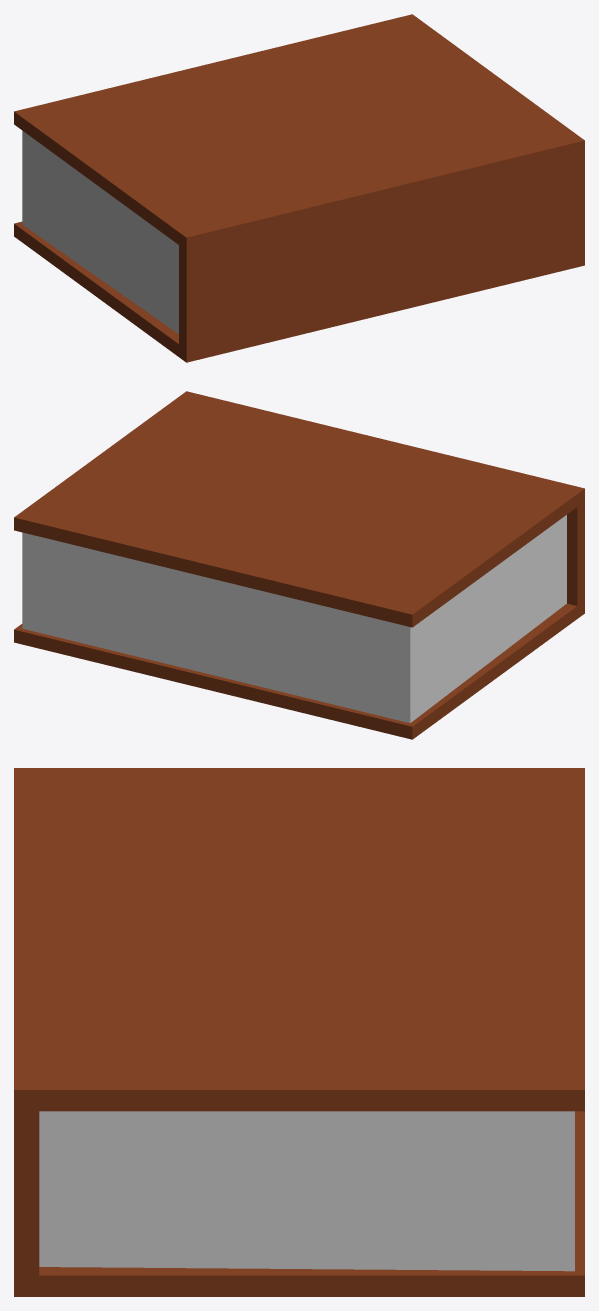
The model's file is book.fbx.
3 renders of one model, top to bottom at view 1: azimuth 30°, elevation 25°; view 2: azimuth 150°, elevation 25°; view 3: azimuth 270°, elevation 25°, orthographic. The views are drawn at different scales.
Parts seen in each view (by area): view 1: book; view 2: book; view 3: book.
Part boxes in pixels (x1,y1,x2,y2): book: [14, 14, 584, 362]; book: [14, 391, 584, 739]; book: [14, 768, 584, 1296].
Size of the model in its own units: 33.9 by 10.16 by 25.42.
1 material, 1 textured.
